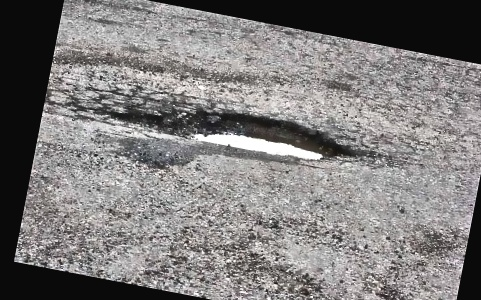pothole: (105, 82, 357, 173)
